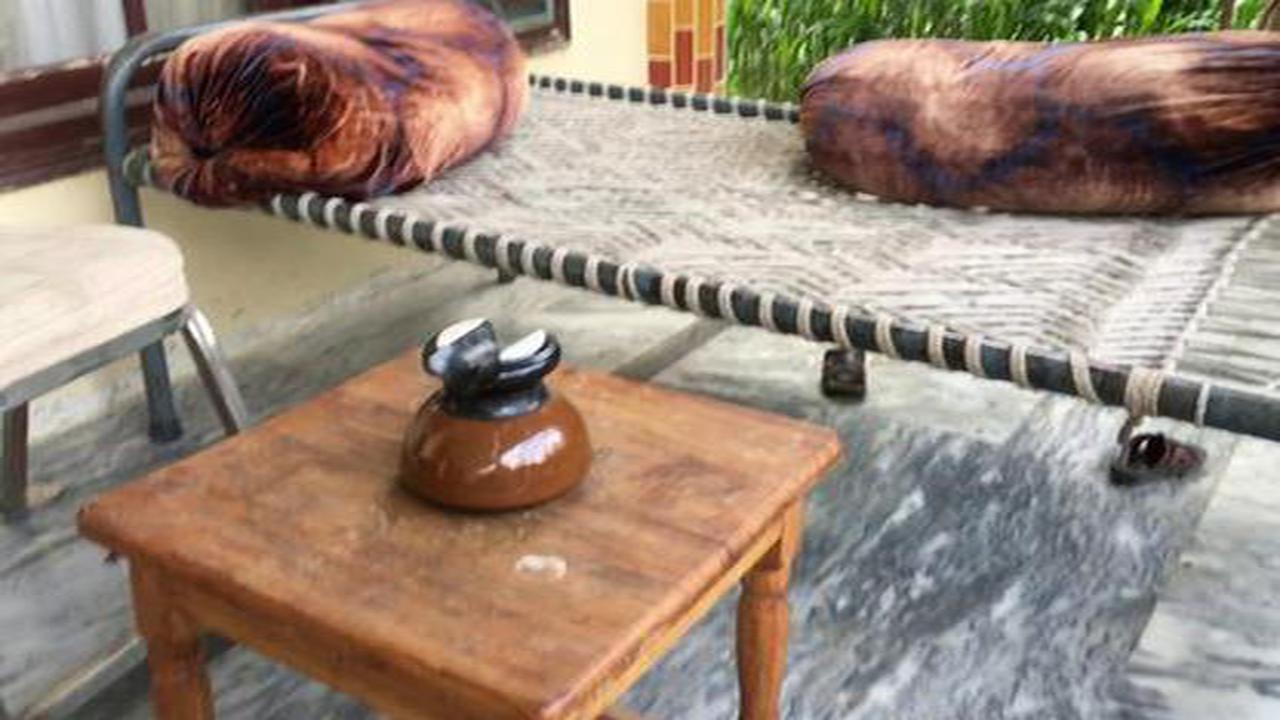insulator_pin: (382, 300, 604, 525)
